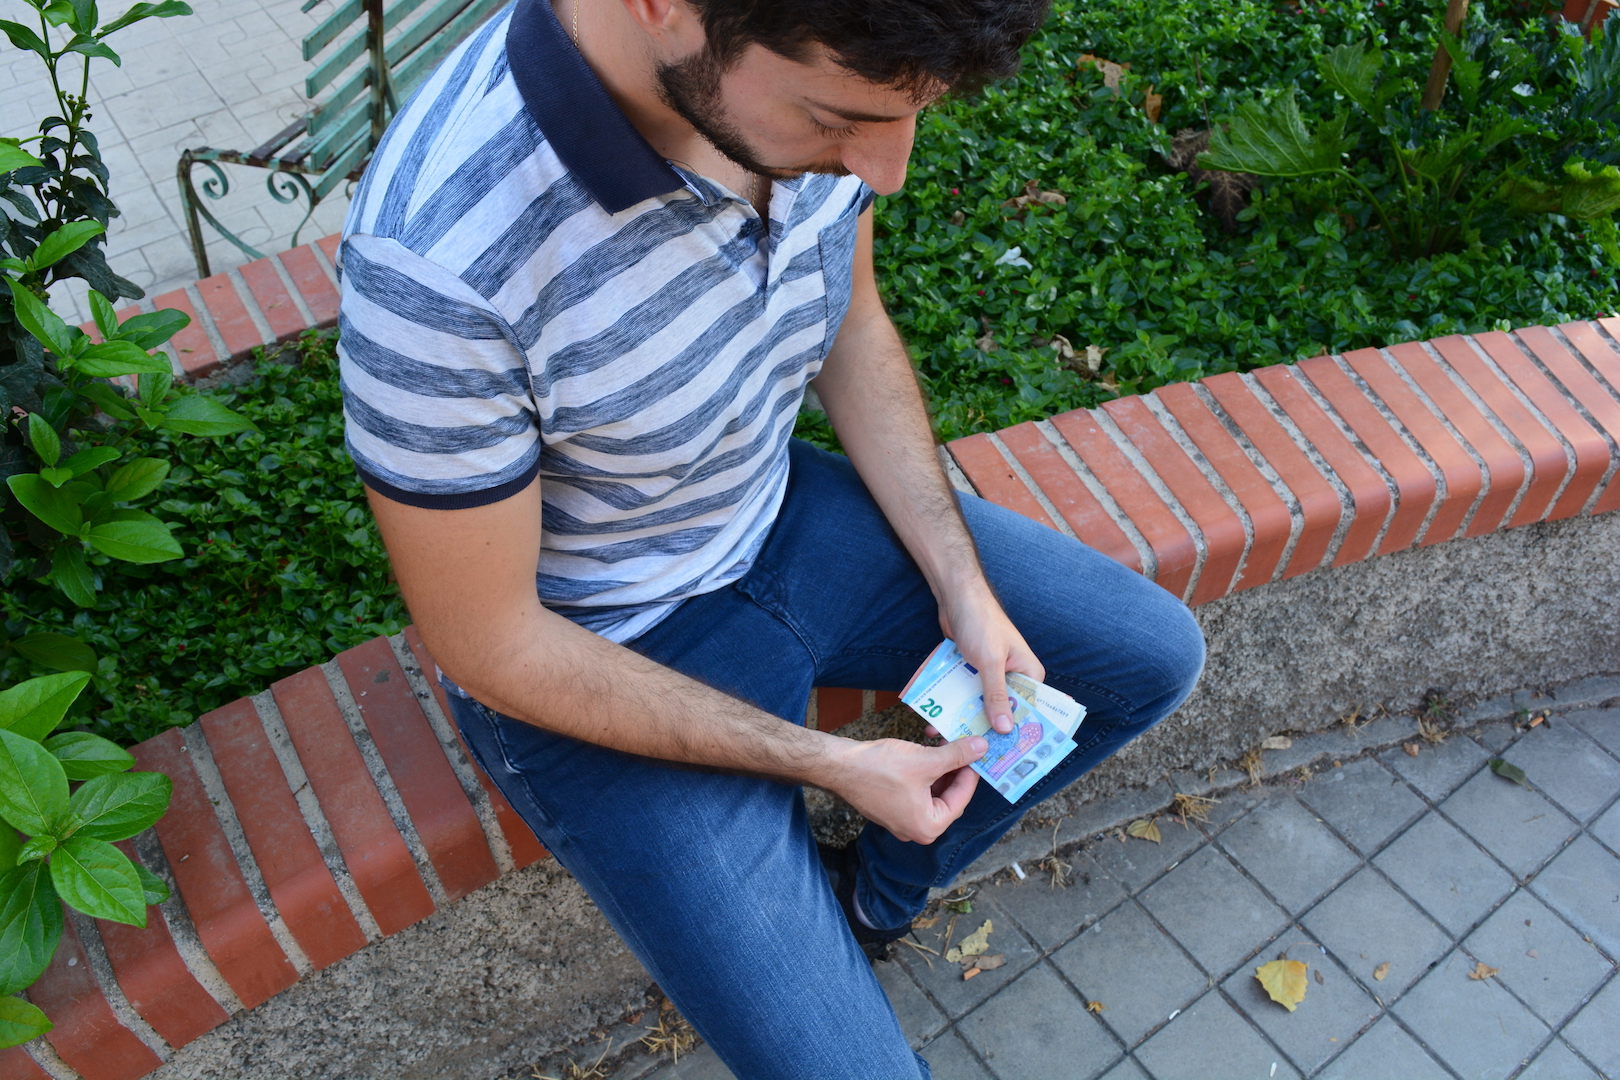billete: (902, 652, 1078, 804), (897, 636, 1088, 738)
